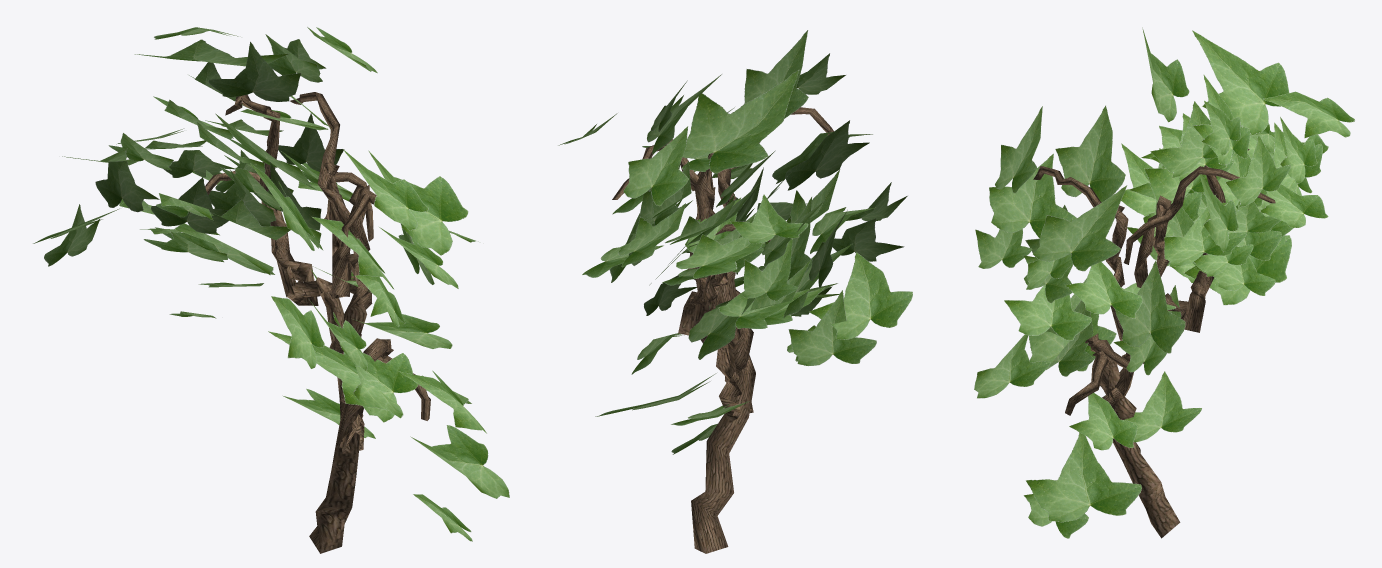
File: tree 2.fbx
3 views of the same model, side by side, from view 1: azimuth 30°, elevation 25°; view 2: azimuth 150°, elevation 25°; view 3: azimuth 270°, elevation 25° (orthographic). The views are drawn at different scales.
Visible parts, largest first — view 1: polySurface52; view 2: polySurface52; view 3: polySurface52.
Boxes of the visible parts, <box> form: polySurface52: <box>33,27,509,553</box>; polySurface52: <box>558,30,912,553</box>; polySurface52: <box>974,27,1355,538</box>.
Size of the model in its own units: 820 by 1033 by 812.
